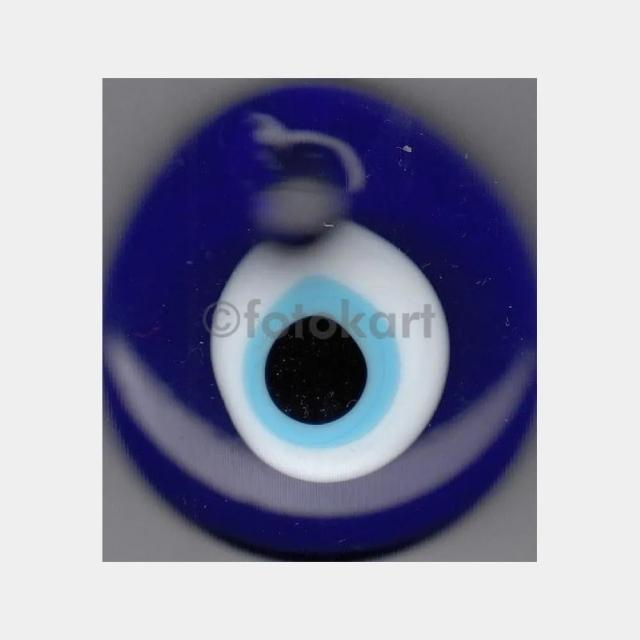Nazar-Boncugu: (103, 88, 536, 560)
